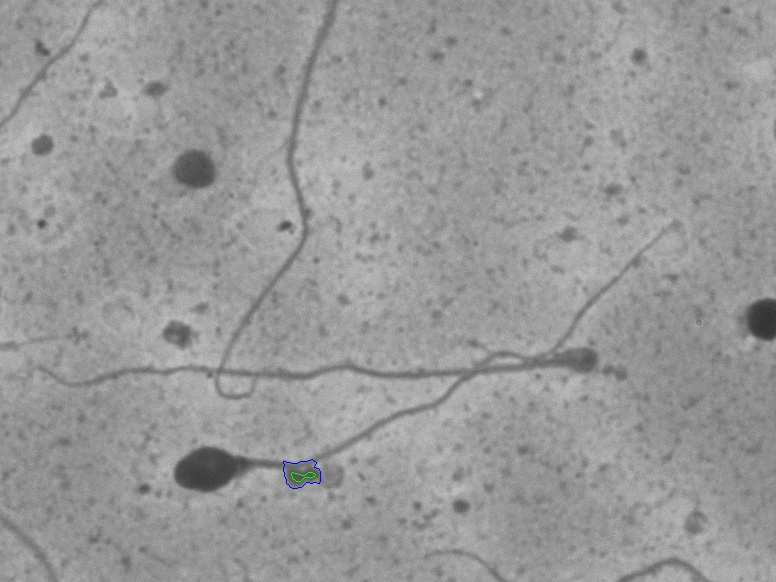Normal: (149, 201, 703, 519)
